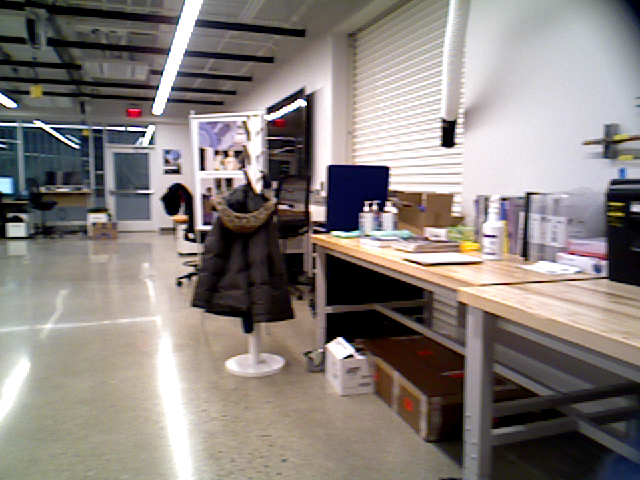painting3: (162, 149, 183, 178)
